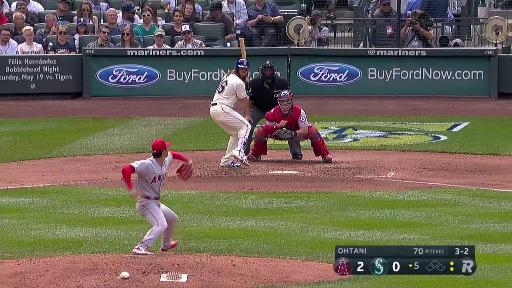pitcher: (122, 138, 196, 258)
